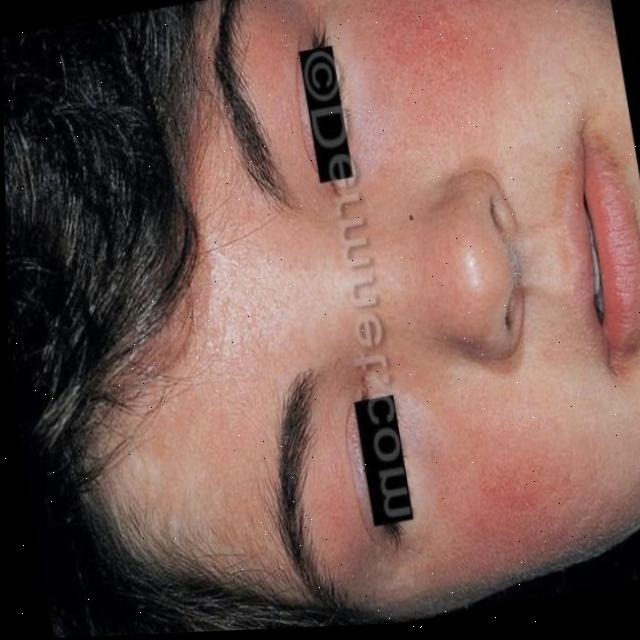Eczema: (438, 446, 582, 558), (420, 3, 525, 103)
